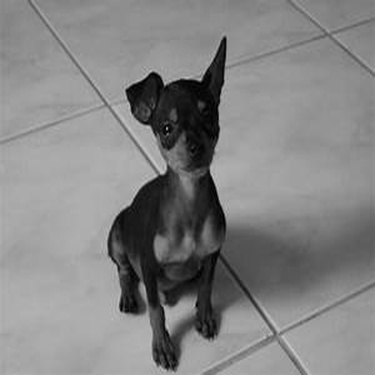dog: (95, 23, 230, 373)
